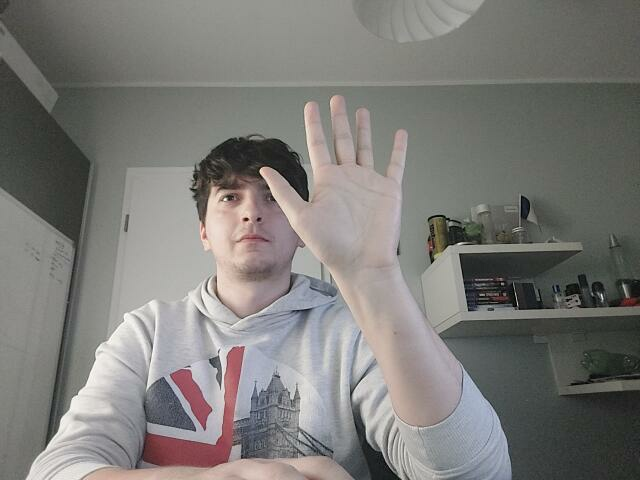hello: (258, 93, 409, 268)
